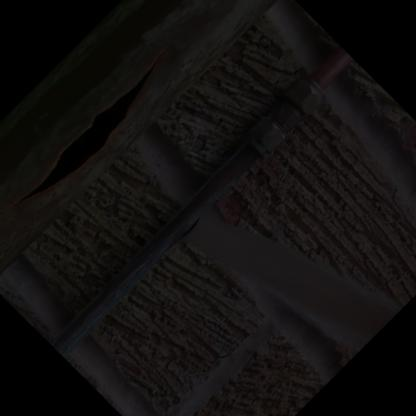burst: (29, 62, 165, 201)
